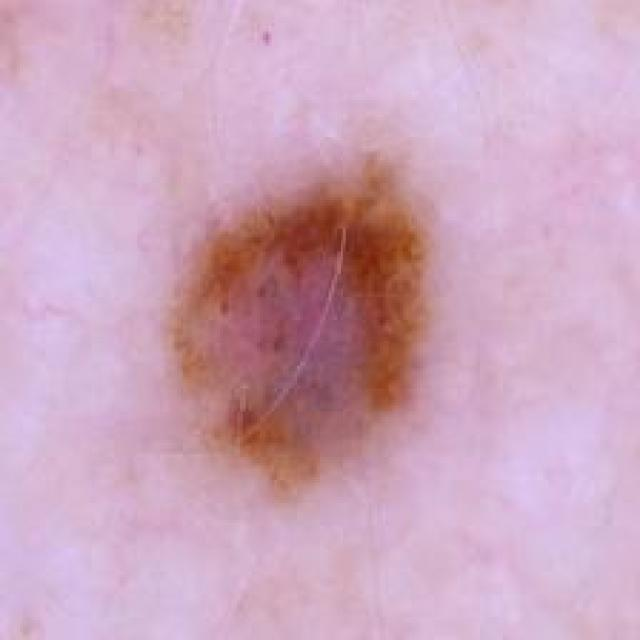Cancer: (163, 149, 434, 500)
